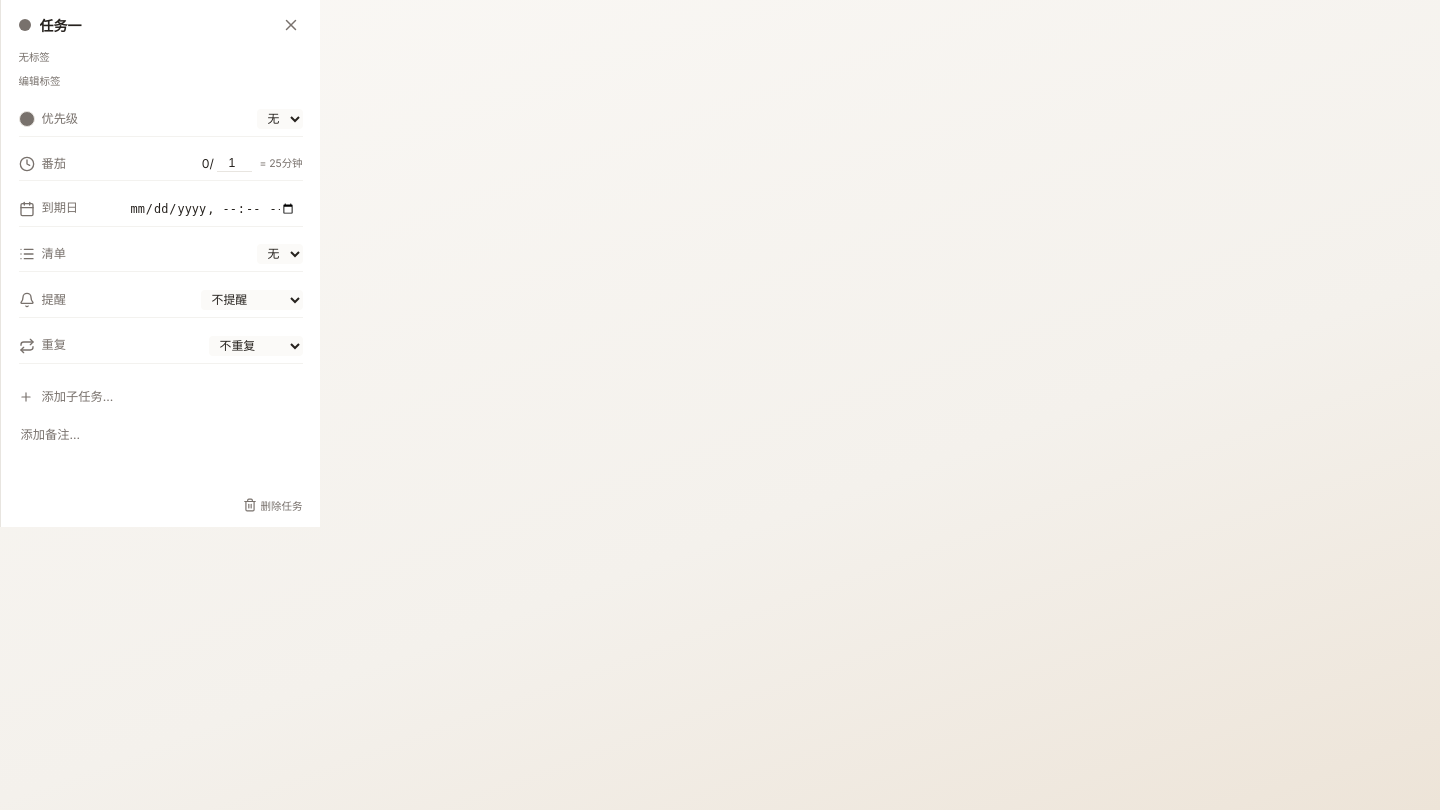
Test: TaskDetailPanel · 草稿与删除(2026-09-14 优化批) › 切换到不同 id 的任务 → 草稿重置为新任务值
Replace the text in the field with class "title-input" with "任务一的编辑" at (159, 25), box left=38, top=16, right=280, bottom=35
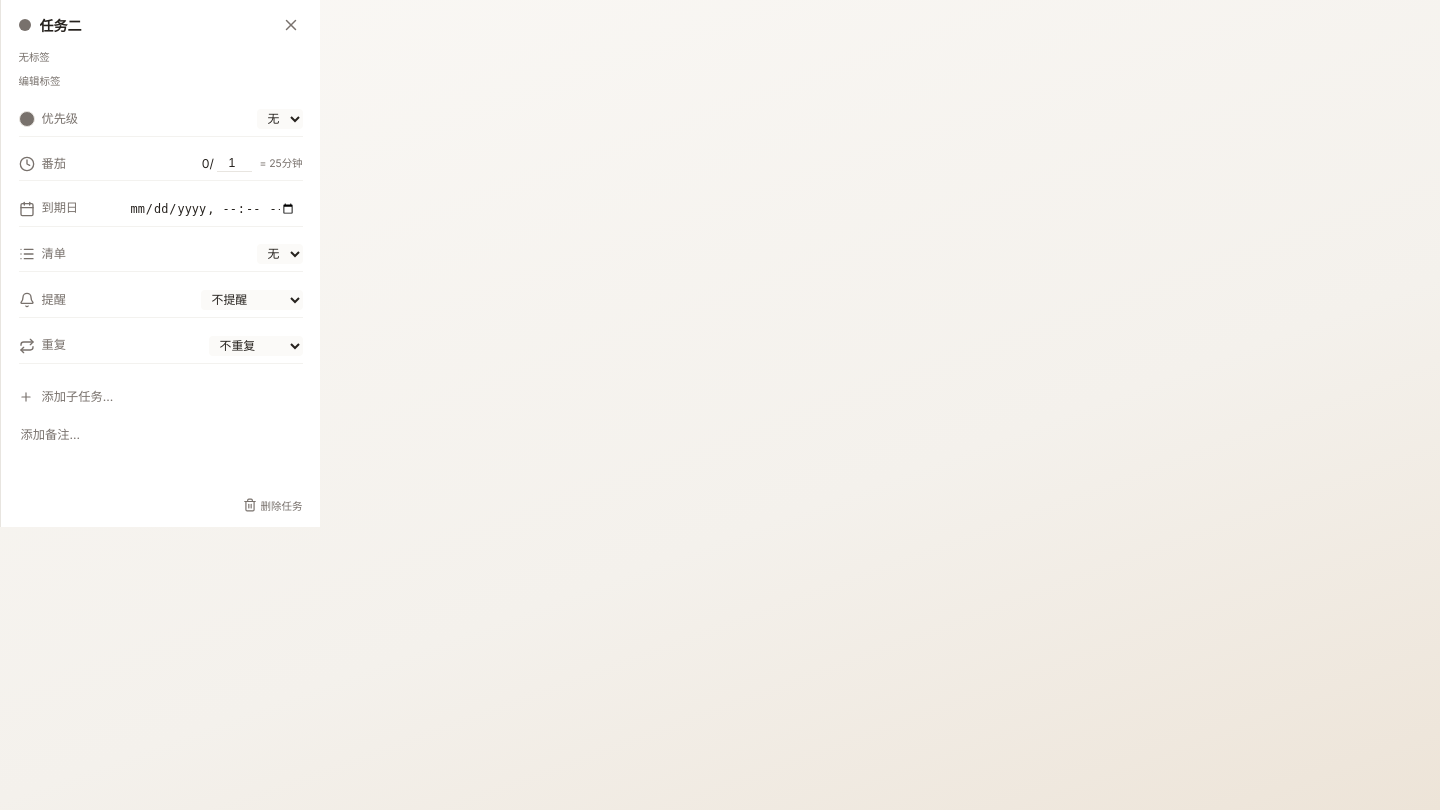
Now the field with class "title-input" holds "任务二", box left=38, top=16, right=280, bottom=35
